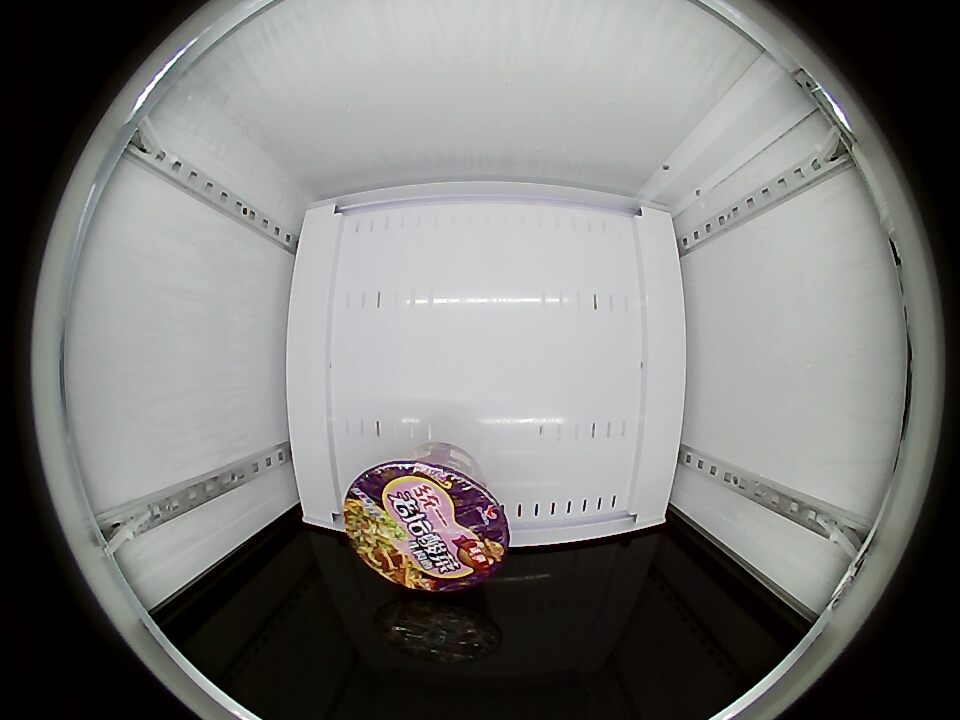laotansuancai: (343, 457, 509, 592)
